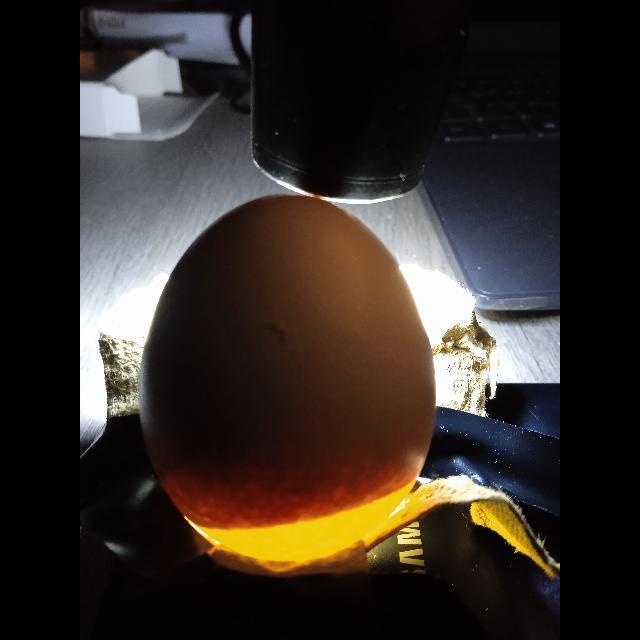Fertile: (138, 187, 440, 568)
